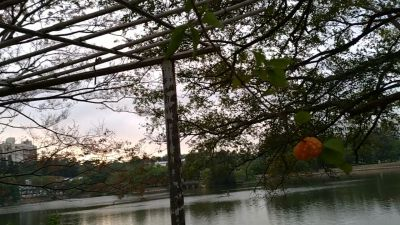eggs: (292, 136, 325, 162)
